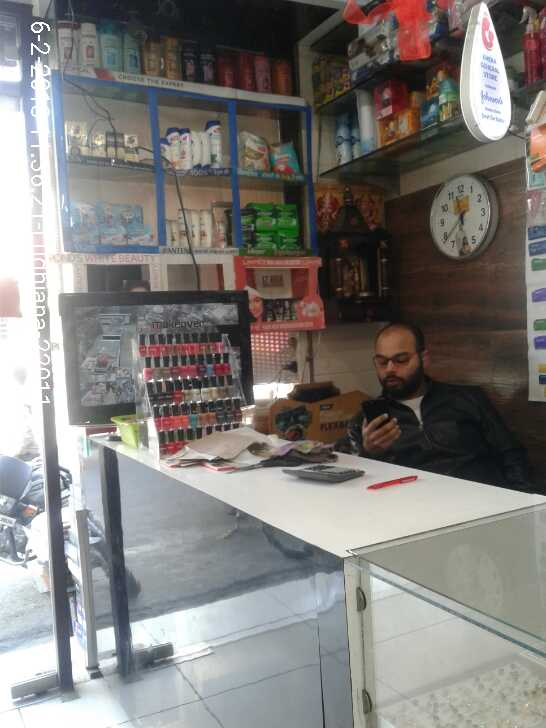venus: (72, 204, 99, 244), (127, 224, 150, 247), (99, 204, 110, 245), (112, 207, 137, 221)
